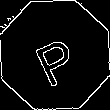P_NW: (28, 24, 82, 86)
